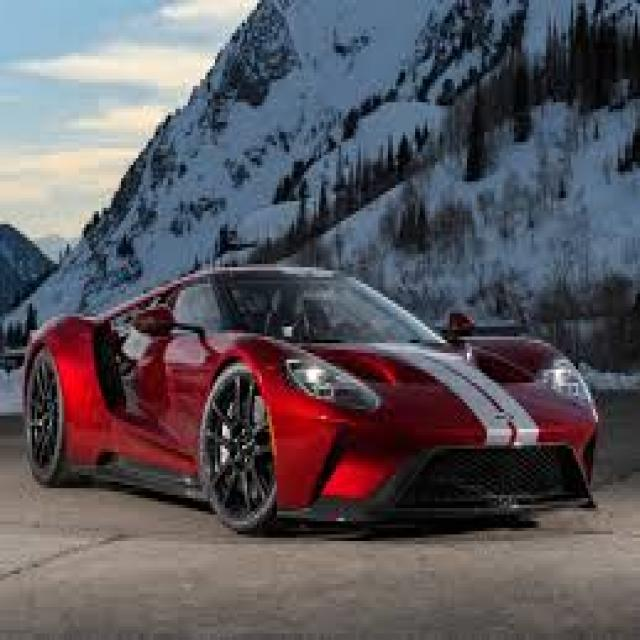Car: (20, 258, 609, 536)
